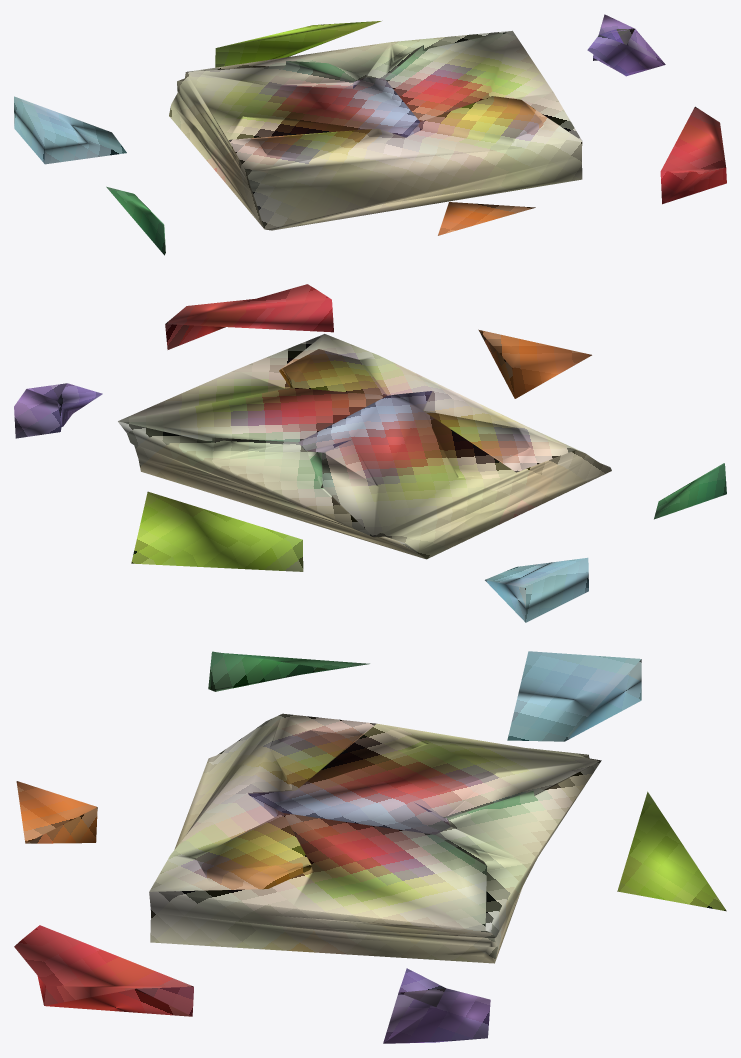
File: Melissa_Doug_Pattern_Blocks_and_Boards-low.glb
3 views of the same model, one above another, from view 1: azimuth 30°, elevation 25°; view 2: azimuth 150°, elevation 25°; view 3: azimuth 270°, elevation 25° (orthographic). The views are drawn at different scales.
Visible parts, largest first — view 1: Melissa_Doug_Pattern_Blocks_and_Boards; view 2: Melissa_Doug_Pattern_Blocks_and_Boards; view 3: Melissa_Doug_Pattern_Blocks_and_Boards.
Boxes of the visible parts, x1,y1,x2,y2 form: Melissa_Doug_Pattern_Blocks_and_Boards: (14, 14, 726, 255); Melissa_Doug_Pattern_Blocks_and_Boards: (14, 284, 726, 622); Melissa_Doug_Pattern_Blocks_and_Boards: (14, 651, 726, 1043).
Bounding box in the file's own units: 0.371 × 0.0306 × 0.3124.
1 material, 1 textured.
